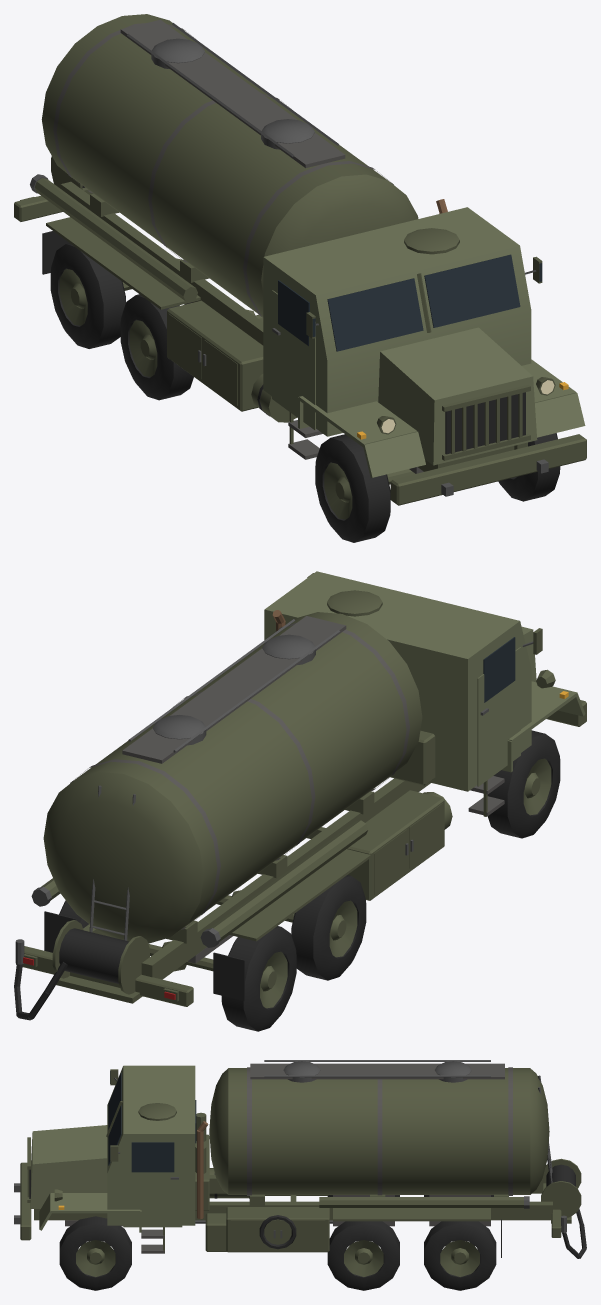
Rendered from Enemy_Tanker.fbx.
3 views of the same model, one above another, from view 1: azimuth 30°, elevation 25°; view 2: azimuth 150°, elevation 25°; view 3: azimuth 270°, elevation 25° (orthographic). The views are drawn at different scales.
Visible parts, largest first — view 1: Enemy_Tanker_Mesh; view 2: Enemy_Tanker_Mesh; view 3: Enemy_Tanker_Mesh.
Part boxes in pixels (left/top/right/bottom): Enemy_Tanker_Mesh: left=14, top=14, right=586, bottom=542; Enemy_Tanker_Mesh: left=14, top=571, right=586, bottom=1031; Enemy_Tanker_Mesh: left=14, top=1060, right=586, bottom=1290.
Bounding box in the file's own units: 2.66 × 3.09 × 8.33.
